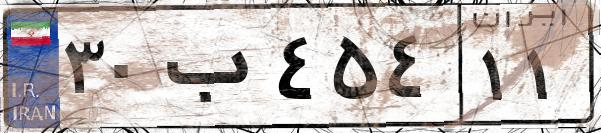0: (110, 28, 158, 98)
1: (475, 38, 525, 113), (525, 38, 570, 115)
3: (57, 26, 110, 100)
4: (270, 28, 330, 110), (385, 28, 445, 110)
5: (330, 28, 385, 110)
ب: (158, 20, 270, 120)
